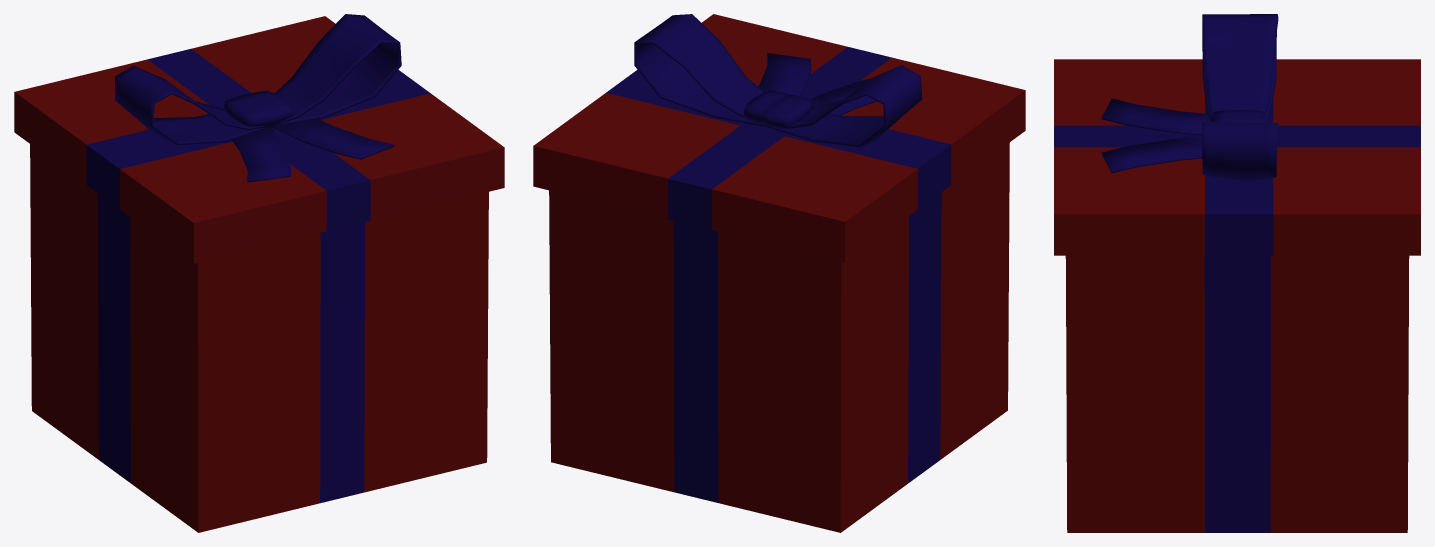
The model's file is Gift .fbx.
3 views of the same model, side by side, from view 1: azimuth 30°, elevation 25°; view 2: azimuth 150°, elevation 25°; view 3: azimuth 270°, elevation 25° (orthographic). The views are drawn at different scales.
Parts seen in each view (by area): view 1: Cube, Plane; view 2: Cube, Plane; view 3: Cube, Plane.
Part boxes in pixels (x1=…): Cube: x1=14, y1=16, x2=504, y2=532; Plane: x1=115, y1=14, x2=401, y2=182; Cube: x1=533, y1=14, x2=1025, y2=532; Plane: x1=634, y1=14, x2=922, y2=146; Cube: x1=1054, y1=59, x2=1420, y2=532; Plane: x1=1101, y1=14, x2=1278, y2=180.
Size of the model in its own units: 224 by 264 by 224.
